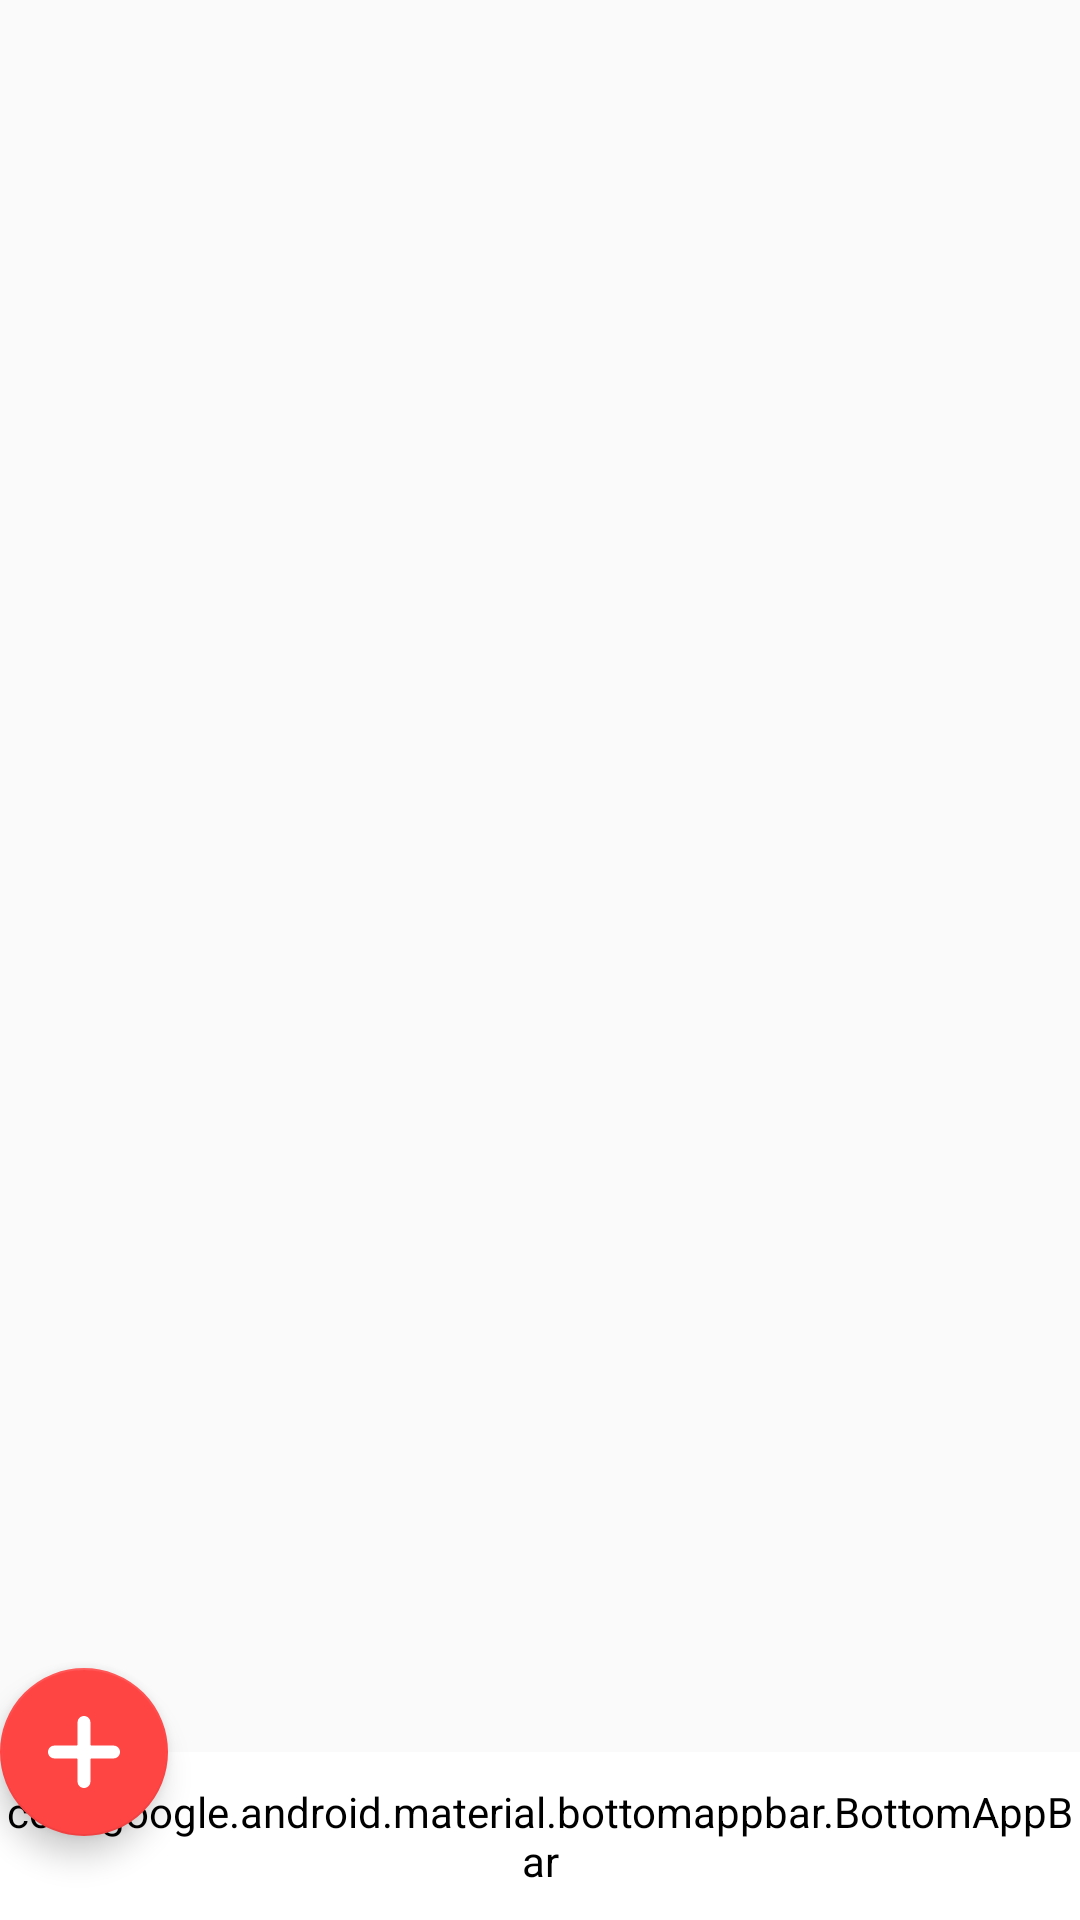

Where to tap for icons on this 1080 x 1920 app screen, as (x,y):
plus: (84,1752)
